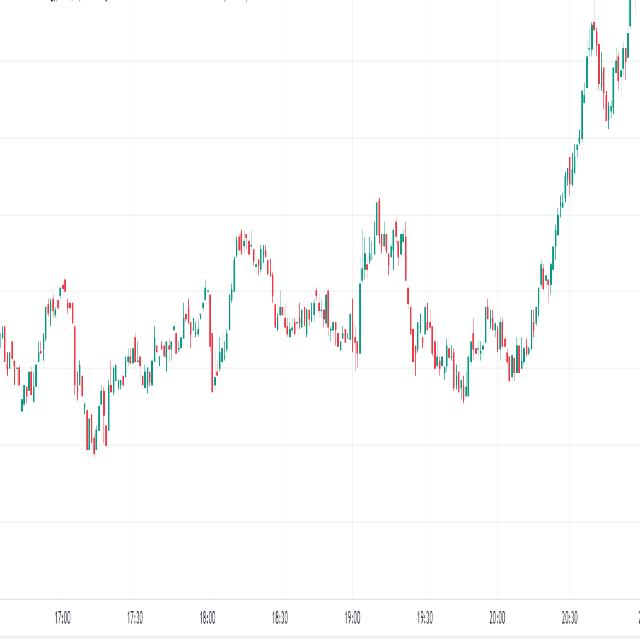Channel-up: (499, 120, 596, 415), (85, 267, 214, 476)
Falling-Wedge: (216, 171, 374, 372), (404, 254, 495, 431)
Triangle: (369, 181, 419, 297)
